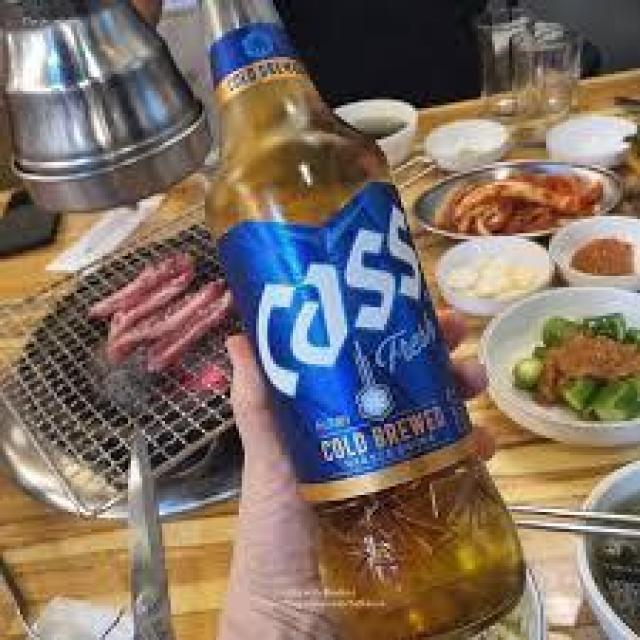beer-bottle: (188, 0, 532, 640)
